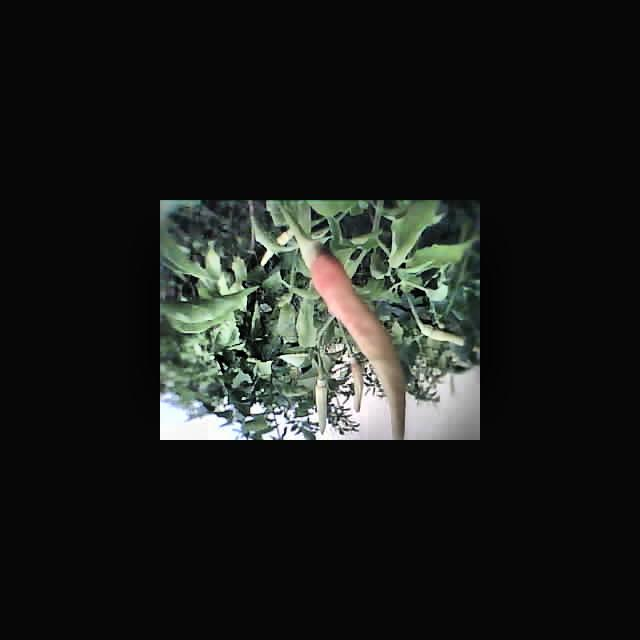Cabai: (315, 246, 358, 338), (346, 358, 371, 413)
